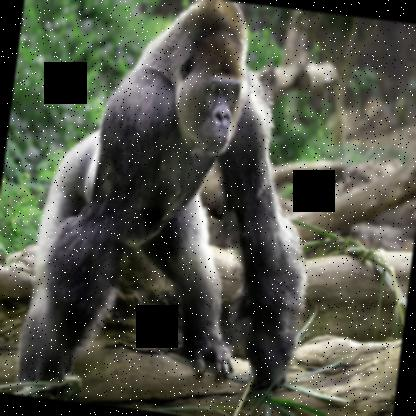Gorilla gorilla: (12, 0, 342, 415)
